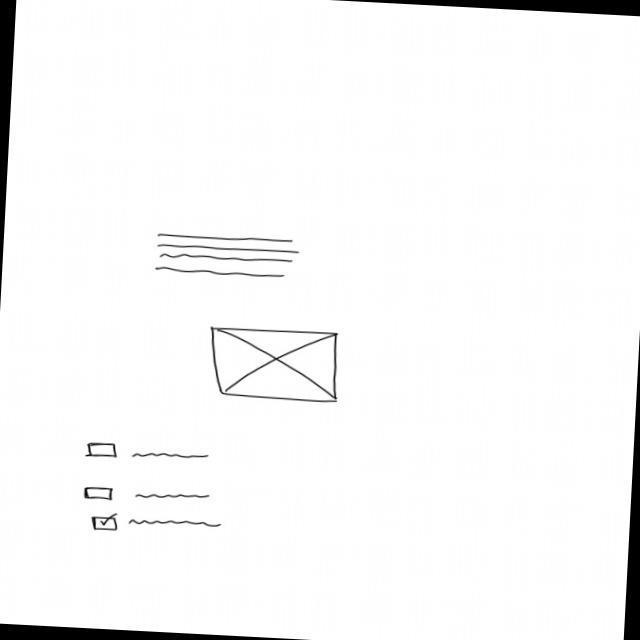checkbox: (91, 512, 224, 539), (84, 440, 214, 466), (81, 485, 213, 507)
image: (206, 326, 344, 406)
textbox: (151, 229, 301, 286)
